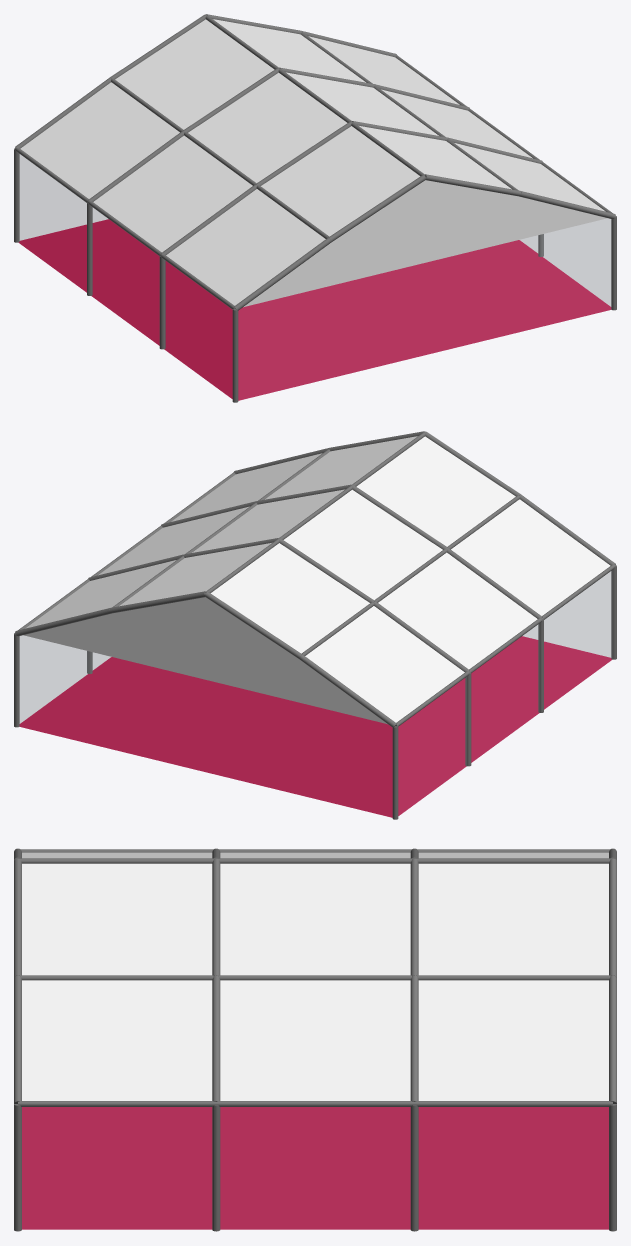
The model's file is 12conpiso.glb.
3 renders of one model, top to bottom at view 1: azimuth 30°, elevation 25°; view 2: azimuth 150°, elevation 25°; view 3: azimuth 270°, elevation 25°, orthographic. The views are drawn at different scales.
Visible parts, largest first — view 1: Piso_Alfombra_Roja, ParedBaja_Frente, Timpano_Frente, Techo_2_0, Techo_1_0, Techo_3_0, Techo_2_1, Techo_1_1, Techo_3_1, Lat_Izq_1, Lat_Izq_2, Lat_Izq_3 (+28 smaller); view 2: Piso_Alfombra_Roja, ParedBaja_Fondo, Timpano_Fondo, Techo_2_0, Techo_3_0, Techo_1_0, Techo_2_1, Techo_3_1, Techo_1_1, Lat_Izq_3, Lat_Izq_1, Lat_Izq_2 (+28 smaller); view 3: Piso_Alfombra_Roja, Lat_Der_2, Lat_Der_1, Lat_Der_3, Techo_1_3, Techo_2_3, Techo_3_3, Techo_2_2, Techo_1_2, Techo_3_2, Larguero.004, Larguero.002 (+17 smaller).
Boxes of the visible parts, bbox=[...] form: Piso_Alfombra_Roja: bbox=[18, 219, 611, 400]; ParedBaja_Frente: bbox=[238, 218, 611, 400]; Timpano_Frente: bbox=[243, 180, 607, 307]; Techo_2_0: bbox=[93, 135, 252, 252]; Techo_1_0: bbox=[166, 189, 325, 305]; Techo_3_0: bbox=[20, 82, 179, 198]; Techo_2_1: bbox=[188, 72, 347, 183]; Techo_1_1: bbox=[261, 126, 420, 236]; Techo_3_1: bbox=[115, 19, 274, 129]; Lat_Izq_1: bbox=[164, 260, 232, 398]; Lat_Izq_2: bbox=[91, 207, 159, 344]; Lat_Izq_3: bbox=[18, 154, 86, 291]; Piso_Alfombra_Roja: bbox=[19, 636, 612, 817]; ParedBaja_Fondo: bbox=[19, 635, 392, 817]; Timpano_Fondo: bbox=[23, 597, 387, 724]; Techo_2_0: bbox=[378, 552, 537, 669]; Techo_3_0: bbox=[305, 606, 464, 722]; Techo_1_0: bbox=[451, 499, 610, 615]; Techo_2_1: bbox=[283, 489, 442, 600]; Techo_3_1: bbox=[210, 543, 369, 653]; Techo_1_1: bbox=[356, 436, 515, 546]; Lat_Izq_3: bbox=[398, 677, 466, 815]; Lat_Izq_1: bbox=[544, 571, 612, 708]; Lat_Izq_2: bbox=[471, 624, 539, 761]; Piso_Alfombra_Roja: bbox=[22, 1107, 608, 1229]; Lat_Der_2: bbox=[220, 1107, 410, 1229]; Lat_Der_1: bbox=[22, 1107, 211, 1229]; Lat_Der_3: bbox=[419, 1107, 608, 1229]; Techo_1_3: bbox=[22, 980, 212, 1100]; Techo_2_3: bbox=[220, 980, 410, 1100]; Techo_3_3: bbox=[418, 980, 608, 1100]; Techo_2_2: bbox=[220, 863, 410, 975]; Techo_1_2: bbox=[22, 863, 212, 975]; Techo_3_2: bbox=[418, 863, 608, 975]; Larguero.004: bbox=[18, 1101, 612, 1106]; Larguero.002: bbox=[18, 858, 612, 863].
Bounding box in the file's own units: 12.16 × 5.47 × 12.16.
